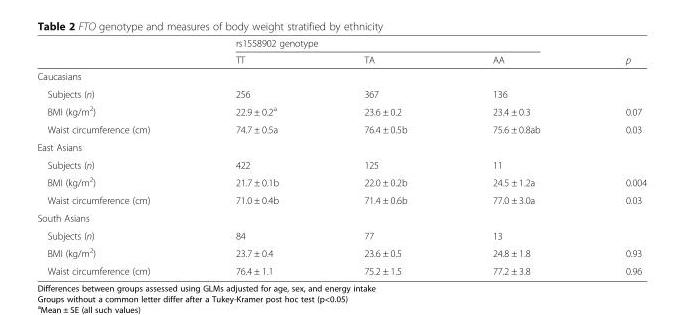table: (36, 37, 646, 276)
table column: (36, 37, 192, 276), (449, 37, 582, 276), (320, 37, 449, 276), (192, 37, 320, 276), (582, 37, 646, 276)
table column header: (36, 37, 646, 67)
table projected row header: (36, 137, 646, 155), (36, 208, 646, 226), (36, 67, 646, 84)
table row: (36, 101, 646, 120), (36, 172, 646, 191), (36, 137, 646, 155), (36, 208, 646, 226), (36, 243, 646, 261), (36, 67, 646, 84), (36, 84, 646, 101), (36, 120, 646, 137), (36, 155, 646, 172), (36, 191, 646, 208), (36, 226, 646, 243), (36, 51, 646, 67), (36, 261, 646, 276), (36, 37, 646, 51)
table spanning cell: (192, 37, 582, 51), (582, 37, 646, 67)
